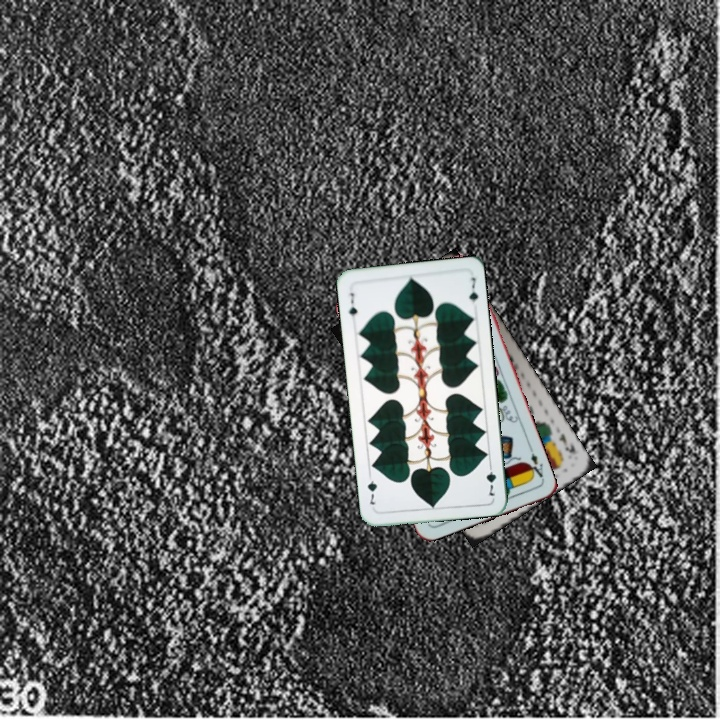EA: (523, 444, 547, 483)
EK: (555, 429, 578, 457)
G7: (482, 459, 499, 499), (345, 289, 360, 319)
